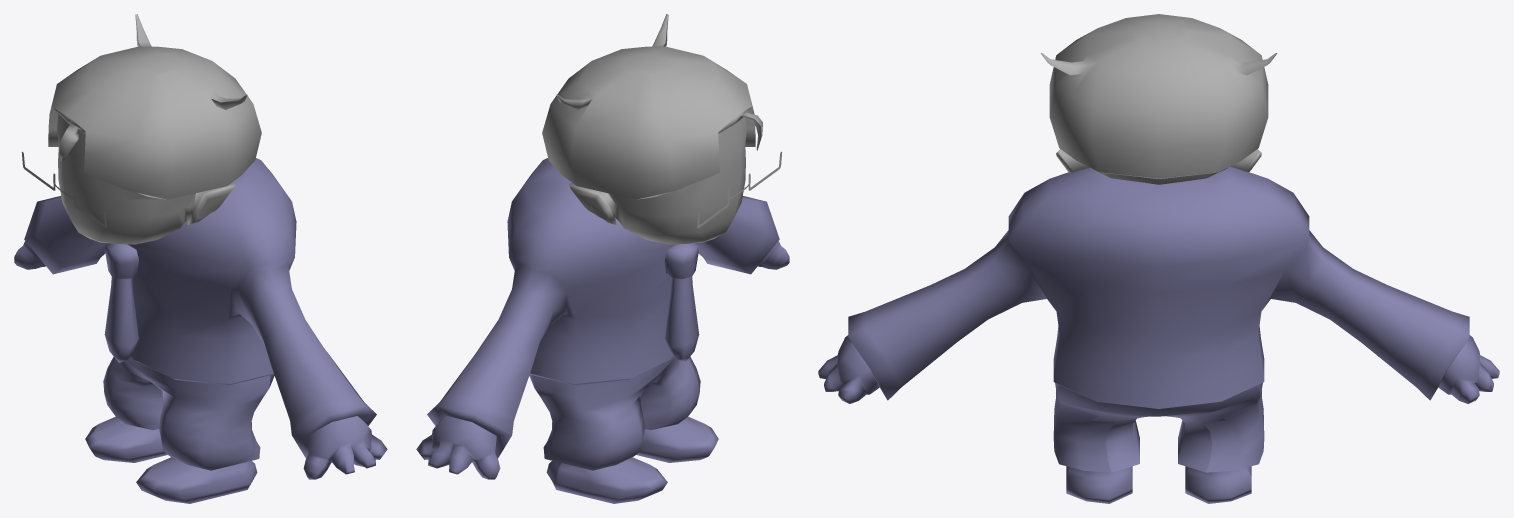
Rendered from BuisnessmanMesh1.fbx.
3 views of the same model, side by side, from view 1: azimuth 30°, elevation 25°; view 2: azimuth 150°, elevation 25°; view 3: azimuth 270°, elevation 25° (orthographic). The views are drawn at different scales.
Visible parts, largest first — view 1: BuisnessBod3; view 2: BuisnessBod3; view 3: BuisnessBod3.
Part boxes in pixels (x1,y1,x2,y2): BuisnessBod3: (14, 14, 387, 503); BuisnessBod3: (416, 14, 789, 503); BuisnessBod3: (818, 14, 1499, 503).
Size of the model in its own units: 8.03 by 13.7 by 19.5.
